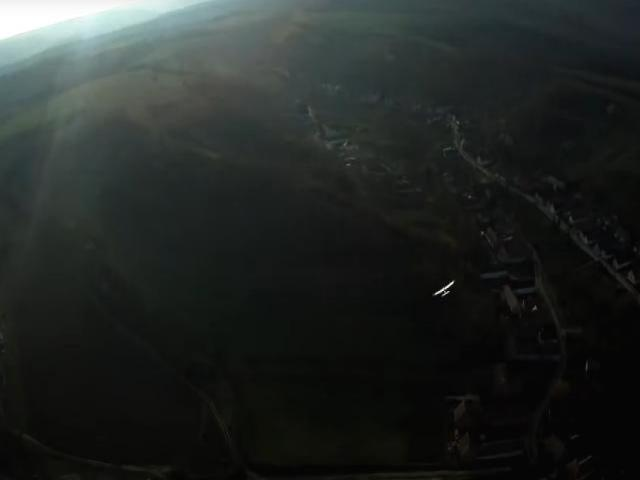iha: (433, 282, 454, 295)
